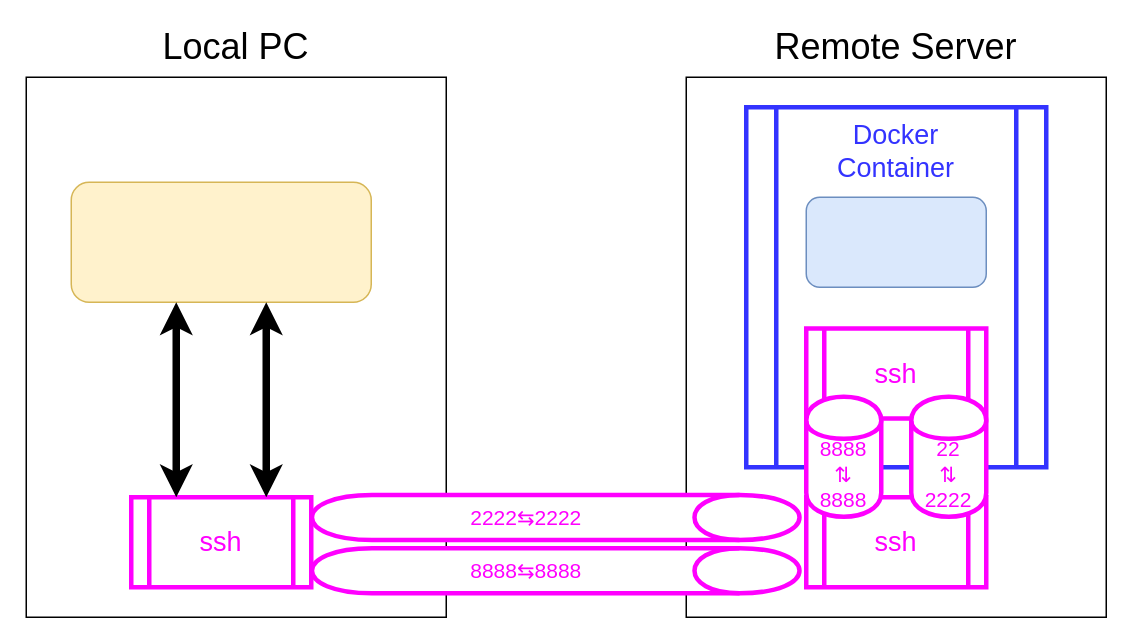
Some shapes in this 1133 by 644 pixel diagram are drawn without their labels. The shapes that lost their labels are listed below. From the top down, each one's centre as x and y in pixels, then its label:
At [220,241]: "PyCharm Professional".
At [895,241]: "python jupyter".
